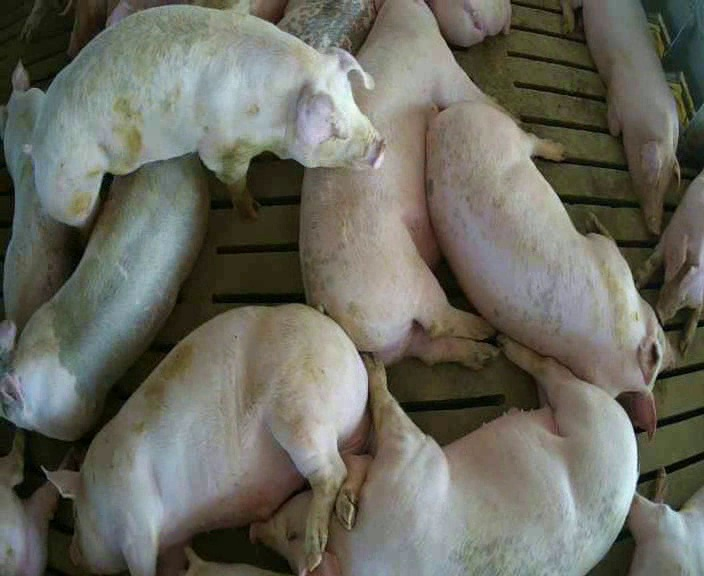pig: (249, 340, 632, 575), (41, 306, 372, 575), (427, 102, 672, 432), (24, 5, 381, 225), (300, 3, 494, 367), (0, 156, 206, 439), (560, 1, 678, 233), (0, 61, 84, 329), (638, 170, 703, 354), (628, 466, 703, 574), (277, 1, 380, 54), (428, 1, 511, 46)
